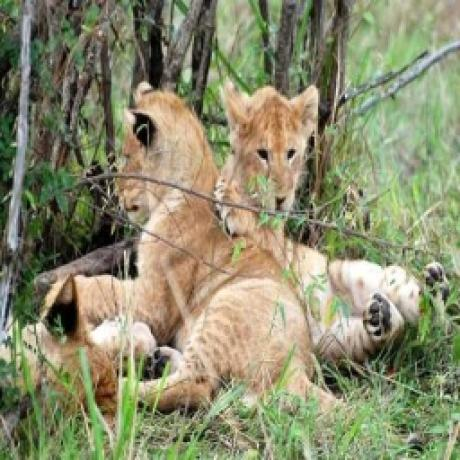Lion: (46, 80, 318, 401), (216, 80, 327, 231)
